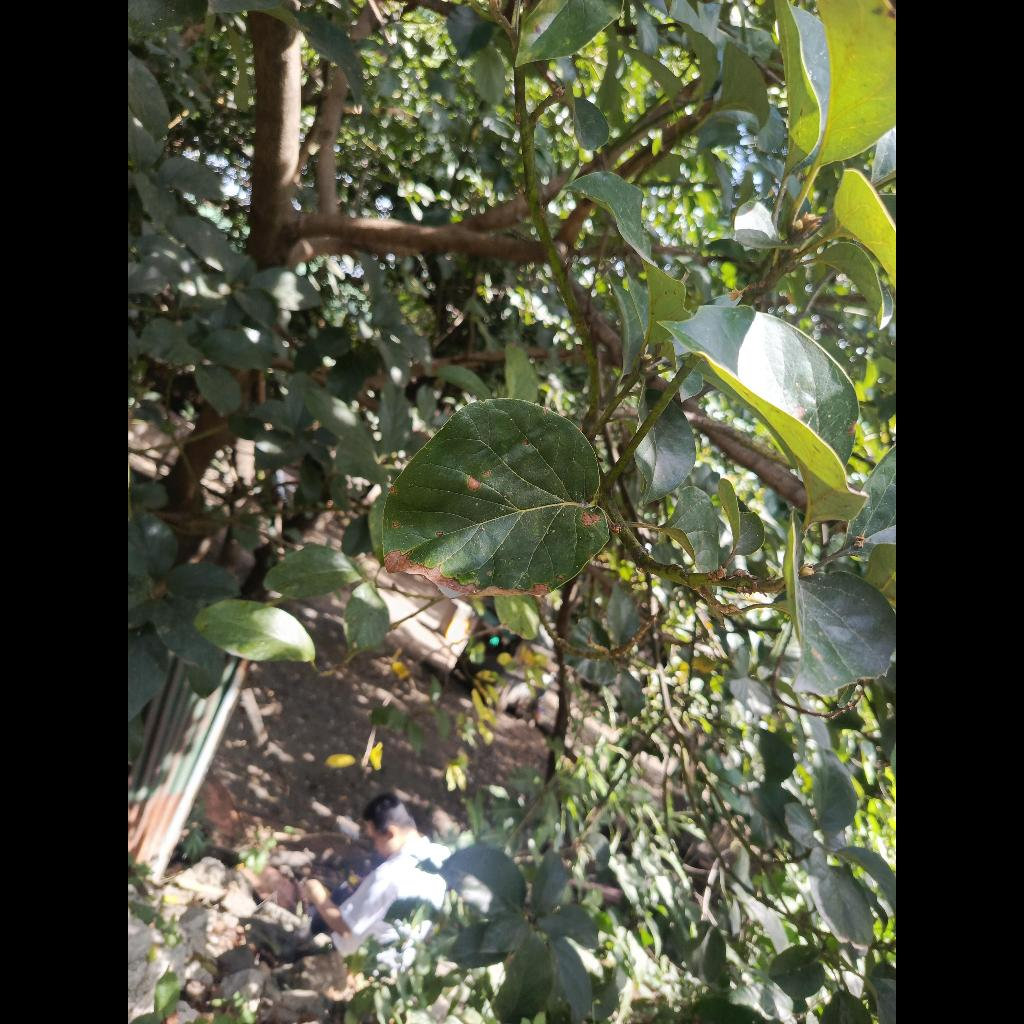Anthracnose: (382, 399, 608, 595)
